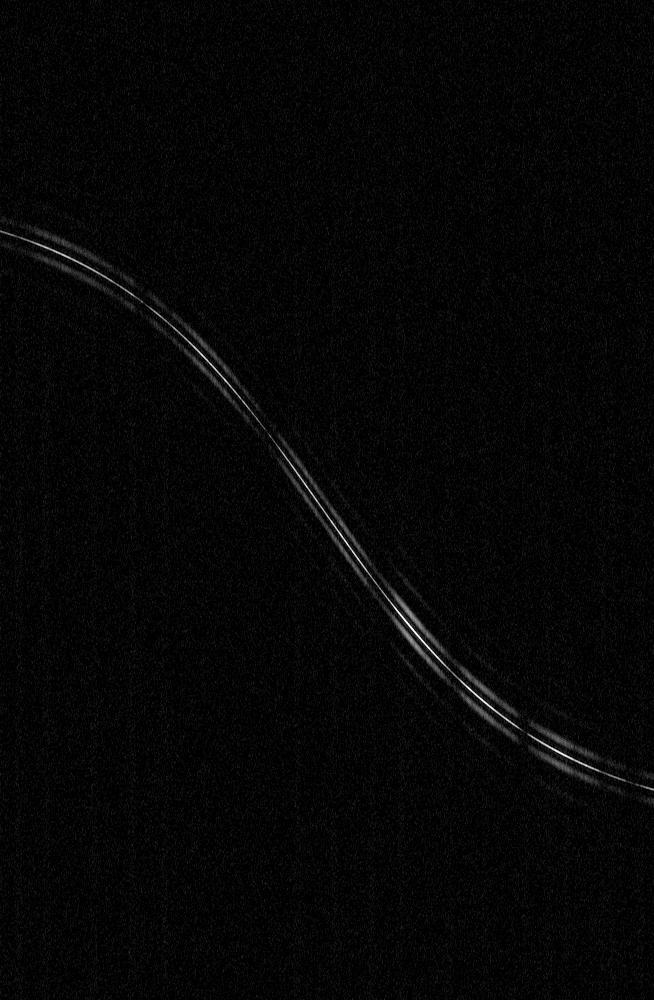signal: (0, 0, 653, 999)
